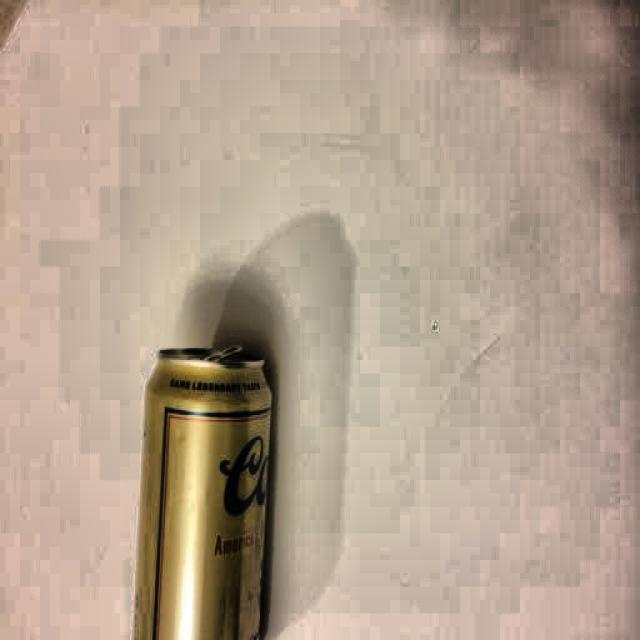metal: (140, 347, 275, 640)
